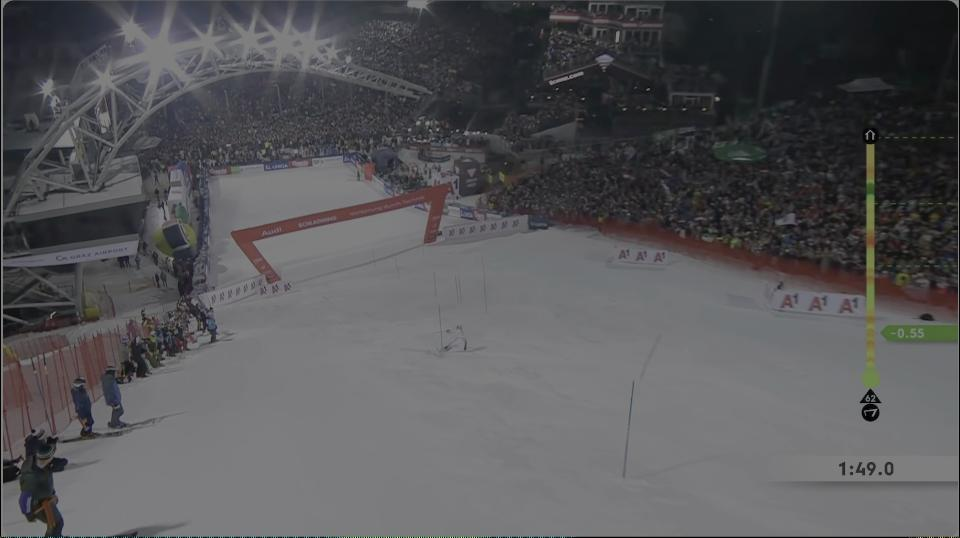gate: (610, 376, 643, 489)
